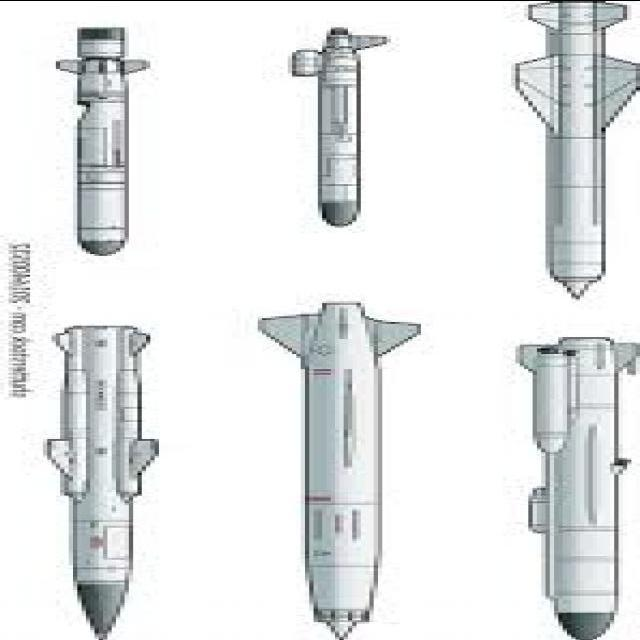missile: (240, 296, 439, 640), (472, 3, 640, 301), (37, 318, 173, 640), (501, 332, 640, 640), (275, 12, 411, 230), (48, 12, 152, 255)
